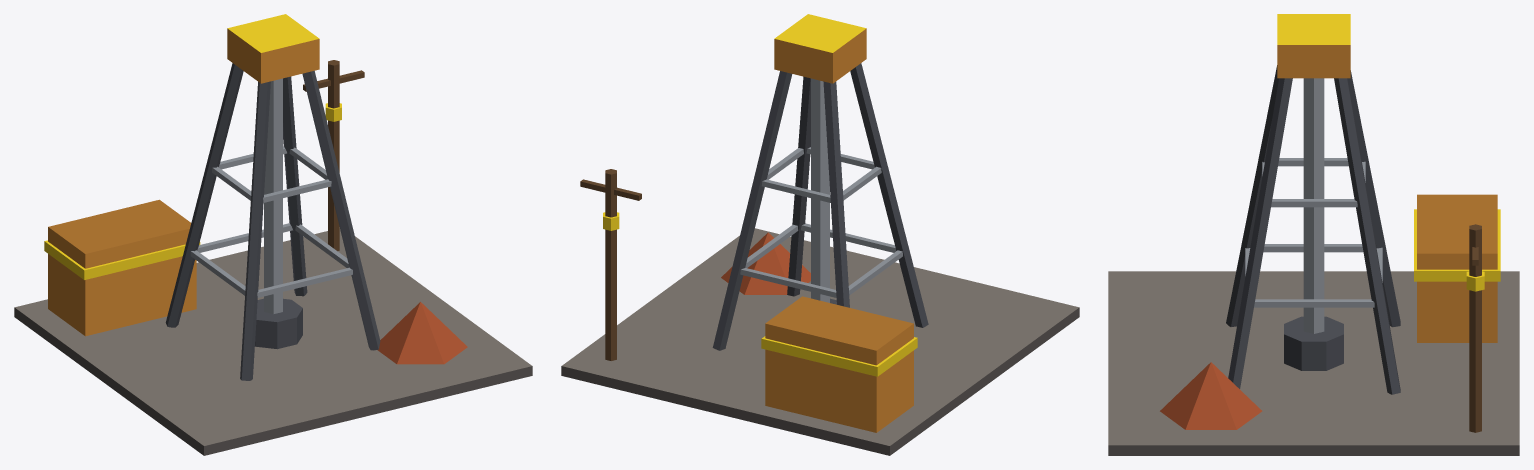
File: drill_rig.glb
3 renders of one model, left to right at view 1: azimuth 30°, elevation 25°; view 2: azimuth 150°, elevation 25°; view 3: azimuth 270°, elevation 25°, orthographic. The views are drawn at different scales.
Visible parts, largest first — view 1: drill_rig; view 2: drill_rig; view 3: drill_rig.
Boxes of the visible parts, x1,y1,x2,y2 form: drill_rig: (14,14,532,455); drill_rig: (561,14,1079,455); drill_rig: (1108,14,1519,455).
Bounding box in the file's own units: 2.8 × 2.55 × 2.8.
